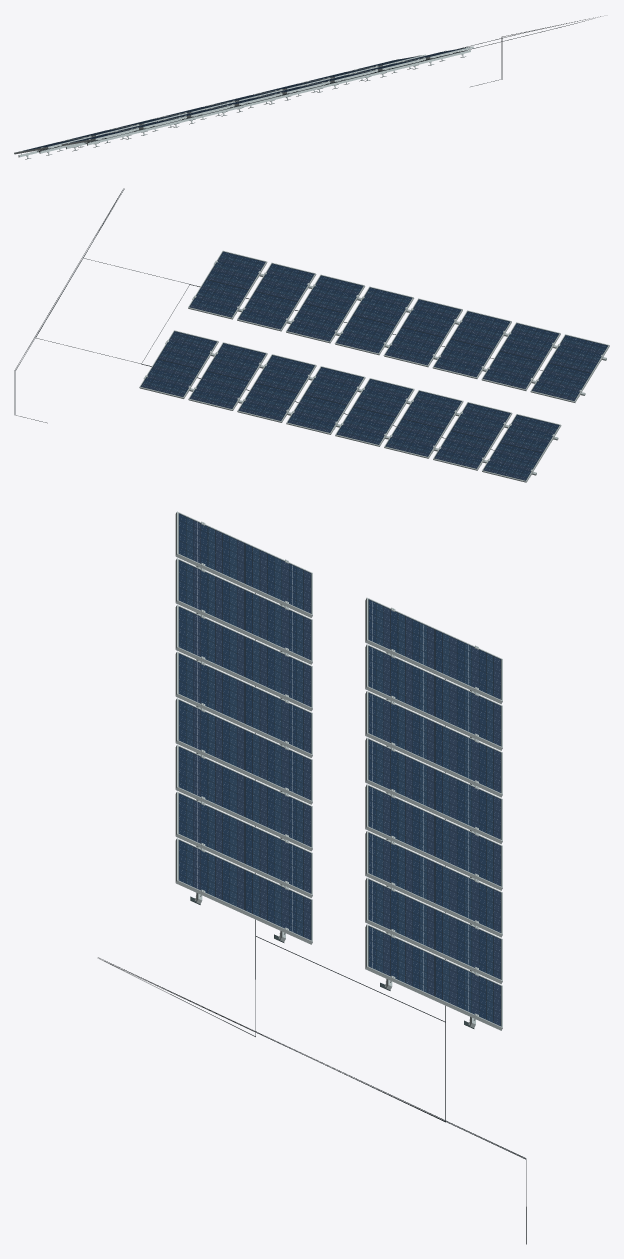
File: SLX_SolarPilot_PV_North16.glb
3 views of the same model, one above another, from view 1: azimuth 30°, elevation 25°; view 2: azimuth 150°, elevation 25°; view 3: azimuth 270°, elevation 25° (orthographic). The views are drawn at different scales.
Parts seen in each view (by area): view 1: Rigid_pv_wiring_north_16_root, Rigid_pv_north_09_root, Rigid_pv_north_01_root, Rigid_pv_north_13_root, Rigid_pv_north_11_root, Rigid_pv_north_15_root, Rigid_pv_north_10_root, Rigid_pv_north_16_root, Rigid_pv_north_12_root, Rigid_pv_north_14_root; view 2: pv_north_13_halfcut_cells_surface, pv_north_02_halfcut_cells_surface, pv_north_10_halfcut_cells_surface, pv_north_12_halfcut_cells_surface, pv_north_01_halfcut_cells_surface, pv_north_04_halfcut_cells_surface, pv_north_05_halfcut_cells_surface, pv_north_07_halfcut_cells_surface, pv_north_09_halfcut_cells_surface, pv_north_03_halfcut_cells_surface, pv_north_08_halfcut_cells_surface, pv_north_14_halfcut_cells_surface (+21 smaller); view 3: pv_north_04_halfcut_cells_surface, pv_north_09_halfcut_cells_surface, pv_north_01_halfcut_cells_surface, pv_north_11_halfcut_cells_surface, pv_north_07_halfcut_cells_surface, pv_north_12_halfcut_cells_surface, pv_north_13_halfcut_cells_surface, pv_north_15_halfcut_cells_surface, pv_north_03_halfcut_cells_surface, pv_north_06_halfcut_cells_surface, pv_north_14_halfcut_cells_surface, pv_north_16_halfcut_cells_surface (+21 smaller).
Boxes of the visible parts, box(x1,y1,x2,y2) form: Rigid_pv_wiring_north_16_root: box(41, 16, 600, 151); Rigid_pv_north_09_root: box(61, 128, 138, 149); Rigid_pv_north_01_root: box(14, 136, 91, 157); Rigid_pv_north_13_root: box(255, 81, 330, 100); Rigid_pv_north_11_root: box(157, 104, 234, 124); Rigid_pv_north_15_root: box(348, 58, 425, 77); Rigid_pv_north_10_root: box(112, 116, 186, 135); Rigid_pv_north_16_root: box(399, 46, 473, 65); Rigid_pv_north_12_root: box(208, 93, 282, 112); Rigid_pv_north_14_root: box(303, 69, 377, 89); pv_north_13_halfcut_cells_surface: box(336, 288, 411, 352); pv_north_02_halfcut_cells_surface: box(435, 403, 510, 468); pv_north_10_halfcut_cells_surface: box(483, 323, 558, 388); pv_north_12_halfcut_cells_surface: box(385, 299, 460, 364); pv_north_01_halfcut_cells_surface: box(484, 415, 558, 480); pv_north_04_halfcut_cells_surface: box(337, 379, 412, 444); pv_north_05_halfcut_cells_surface: box(288, 367, 363, 432); pv_north_07_halfcut_cells_surface: box(190, 343, 265, 408); pv_north_09_halfcut_cells_surface: box(532, 335, 607, 400); pv_north_03_halfcut_cells_surface: box(386, 391, 461, 456); pv_north_08_halfcut_cells_surface: box(141, 331, 216, 396); pv_north_14_halfcut_cells_surface: box(287, 276, 362, 340); pv_north_04_halfcut_cells_surface: box(369, 740, 500, 839); pv_north_09_halfcut_cells_surface: box(179, 514, 310, 613); pv_north_01_halfcut_cells_surface: box(369, 600, 500, 699); pv_north_11_halfcut_cells_surface: box(179, 607, 310, 706); pv_north_07_halfcut_cells_surface: box(369, 880, 500, 979); pv_north_12_halfcut_cells_surface: box(179, 654, 310, 753); pv_north_13_halfcut_cells_surface: box(179, 700, 310, 799); pv_north_15_halfcut_cells_surface: box(179, 794, 310, 893); pv_north_03_halfcut_cells_surface: box(369, 693, 500, 792); pv_north_06_halfcut_cells_surface: box(369, 833, 500, 932); pv_north_14_halfcut_cells_surface: box(179, 747, 310, 846); pv_north_16_halfcut_cells_surface: box(179, 840, 310, 939).
Bounding box in the file's own units: 13 × 3.58 × 4.86.
